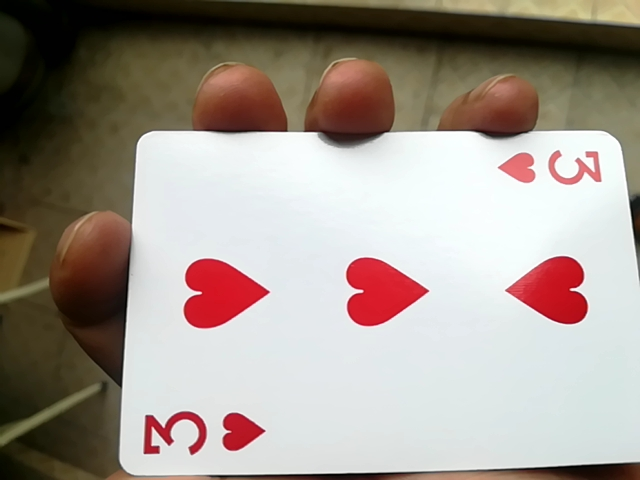hx 3: (102, 134, 632, 480)
